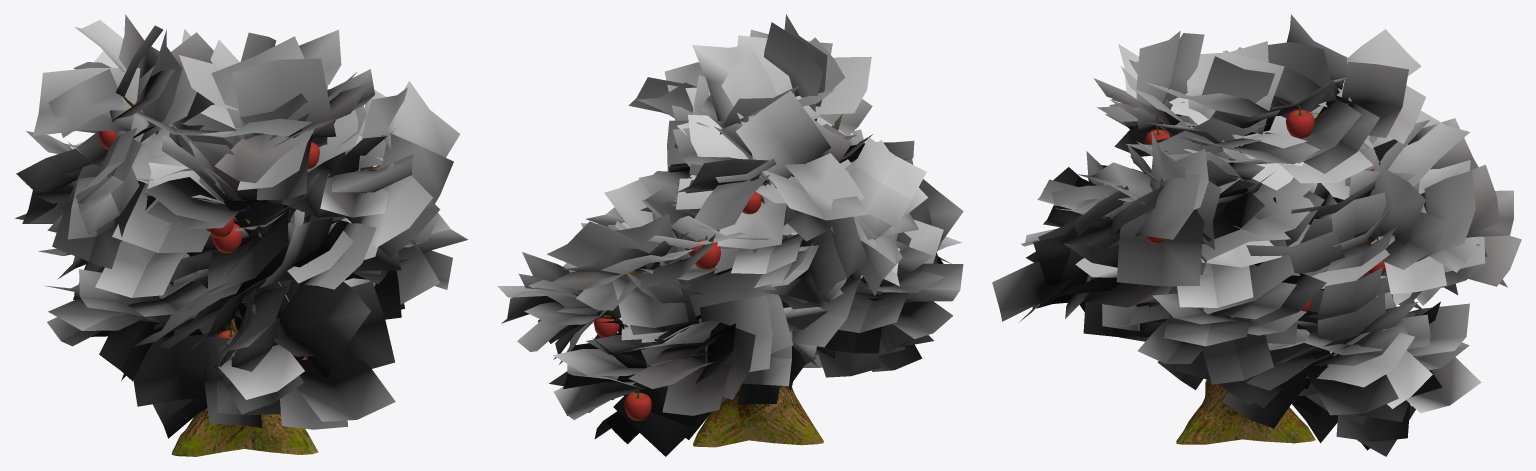
The model's file is sb_obj_nature001_Tree01c.fbx.
3 views of the same model, side by side, from view 1: azimuth 30°, elevation 25°; view 2: azimuth 150°, elevation 25°; view 3: azimuth 270°, elevation 25° (orthographic). The views are drawn at different scales.
Parts seen in each view (by area): view 1: leaf01c, sb_obj_nature001_Tree01c, fruit01c; view 2: leaf01c, sb_obj_nature001_Tree01c, fruit01c; view 3: leaf01c, sb_obj_nature001_Tree01c, fruit01c.
Part boxes in pixels (<box>): leaf01c: <box>15,14,468,438</box>; sb_obj_nature001_Tree01c: <box>116,88,379,456</box>; fruit01c: <box>99,131,319,359</box>; leaf01c: <box>497,14,963,456</box>; sb_obj_nature001_Tree01c: <box>599,160,823,447</box>; fruit01c: <box>594,192,761,420</box>; leaf01c: <box>992,14,1521,456</box>; sb_obj_nature001_Tree01c: <box>1108,108,1378,444</box>; fruit01c: <box>1145,105,1385,366</box>.
Size of the model in its own units: 5.23 by 4.85 by 5.9.
